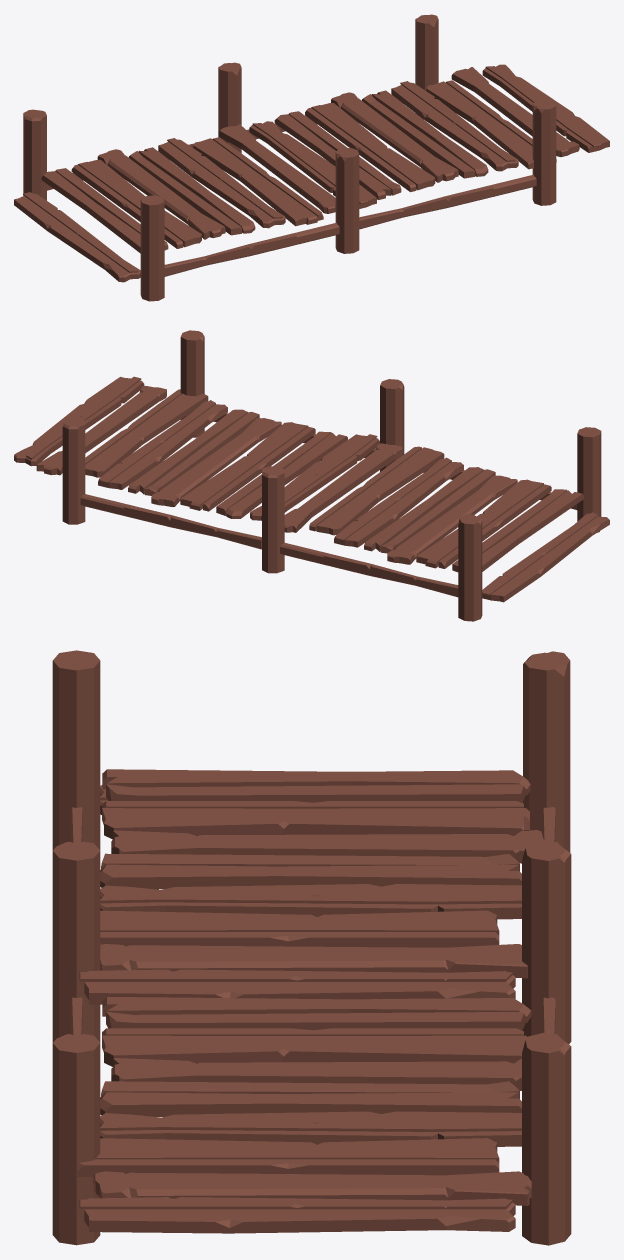
Rendered from Muelle.fbx.
3 views of the same model, one above another, from view 1: azimuth 30°, elevation 25°; view 2: azimuth 150°, elevation 25°; view 3: azimuth 270°, elevation 25° (orthographic). The views are drawn at different scales.
Parts seen in each view (by area): view 1: plank2.002, plank2.001, plank4.003, plank4, plank4.001, plank1.003, plank1.001, plank2.003, plank2, plank3.002, plank1, plank4.004 (+13 smaller); view 2: plank2.002, plank2.001, plank2.003, plank4.003, plank4, plank4.001, plank1.001, plank1.003, plank2, plank4.004, plank3.002, plank1 (+13 smaller); view 3: plank4.004, plank2.002, plank2, plank2.003, plank2.001, plank1.002, plank1, plank1.003, plank1.001, plank4.002, plank4.003, plank4.001 (+12 smaller).
Part boxes in pixels (x1,y1,x2,y2): plank2.002: [305, 103, 435, 192]; plank2.001: [193, 137, 323, 226]; plank4.003: [391, 81, 518, 171]; plank4: [14, 192, 140, 282]; plank4.001: [158, 138, 285, 228]; plank1.003: [361, 90, 488, 178]; plank1.001: [128, 147, 255, 235]; plank2.003: [426, 80, 556, 169]; plank2: [71, 159, 201, 248]; plank3.002: [331, 92, 458, 182]; plank1: [41, 168, 168, 253]; plank4.004: [482, 64, 609, 152]; plank2.002: [180, 422, 315, 511]; plank2.001: [309, 446, 444, 535]; plank2.003: [85, 389, 208, 477]; plank4.003: [98, 400, 227, 489]; plank4: [482, 512, 609, 602]; plank4.001: [334, 457, 463, 547]; plank1.001: [364, 467, 495, 553]; plank1.003: [128, 409, 259, 495]; plank2: [416, 479, 551, 568]; plank4.004: [14, 376, 144, 466]; plank3.002: [151, 418, 281, 506]; plank1: [452, 489, 583, 572]; plank4.004: [79, 1197, 515, 1233]; plank2.002: [102, 1028, 527, 1066]; plank2: [102, 801, 529, 839]; plank2.003: [77, 1138, 499, 1176]; plank2.001: [100, 910, 499, 947]; plank1.002: [102, 997, 531, 1030]; plank1: [102, 769, 530, 802]; plank1.003: [100, 1081, 521, 1116]; plank1.001: [100, 853, 521, 889]; plank4.002: [79, 969, 515, 1004]; plank4.003: [100, 1111, 521, 1146]; plank4.001: [100, 884, 521, 919].
Size of the model in its own units: 4370 by 818 by 1999.
